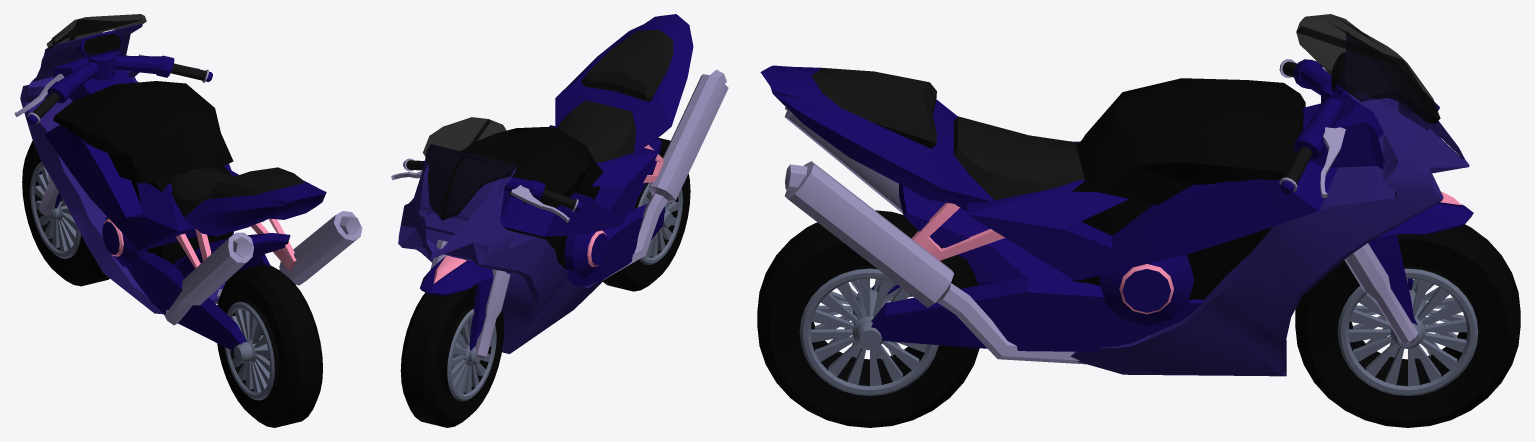
File: ArceeLOWpoly.fbx
3 renders of one model, left to right at view 1: azimuth 30°, elevation 25°; view 2: azimuth 150°, elevation 25°; view 3: azimuth 270°, elevation 25°, orthographic. The views are drawn at different scales.
Parts seen in each view (by area): view 1: Motorcycle, Front_Tire.001, Plane, Front_Tire, Plane.001; view 2: Motorcycle, Plane, Front_Tire, Plane.001, Front_Tire.001; view 3: Motorcycle, Plane, Front_Tire, Front_Tire.001, Plane.001.
Part boxes in pixels (box(x1,y1,x2,y2)): Motorcycle: box(14, 31, 362, 351); Front_Tire.001: box(217, 264, 322, 427); Plane: box(20, 24, 225, 314); Front_Tire: box(22, 141, 109, 286); Plane.001: box(46, 14, 146, 49); Motorcycle: box(391, 14, 728, 358); Plane: box(398, 145, 602, 353); Front_Tire: box(400, 283, 504, 427); Plane.001: box(423, 117, 519, 220); Front_Tire.001: box(602, 137, 690, 291); Motorcycle: box(760, 53, 1473, 364); Plane: box(1070, 34, 1469, 376); Front_Tire: box(1295, 224, 1520, 427); Front_Tire.001: box(757, 210, 979, 427); Plane.001: box(1296, 14, 1440, 123).
Size of the model in its own units: 355 by 520 by 910.
